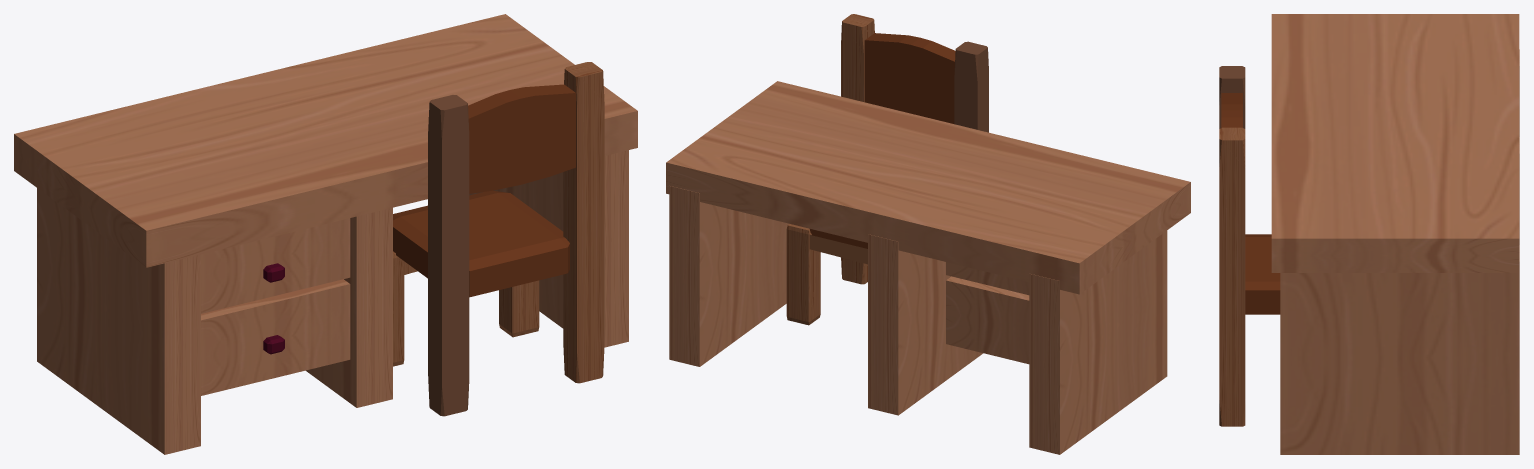
Rendered from desk-chair.gltf.
3 renders of one model, left to right at view 1: azimuth 30°, elevation 25°; view 2: azimuth 150°, elevation 25°; view 3: azimuth 270°, elevation 25°, orthographic. The views are drawn at different scales.
Visible parts, largest first — view 1: Cube.008, Cube.009, Cube.014, Cube.013, Cube.015, Cube.019, Cube.018, Cube.010, Cube.012, Cube.011, Cube.017; view 2: Cube.008, Cube.009, Cube.011, Cube.010, Cube.018, Cube.013, Cube.017, Cube.014, Cube.015, Cube.012; view 3: Cube.008, Cube.011, Cube.015, Cube.019, Cube.014, Cube.018.
Boxes of the visible parts, x1,y1,x2,y2 form: Cube.008: (14,14,637,267); Cube.009: (37,188,200,454); Cube.014: (428,95,469,416); Cube.013: (201,279,350,395); Cube.015: (563,62,604,383); Cube.019: (393,190,569,297); Cube.018: (468,84,575,193); Cube.010: (306,207,392,407); Cube.012: (201,218,350,313); Cube.011: (469,150,628,347); Cube.017: (393,251,539,366); Cube.008: (666,81,1190,294); Cube.009: (1029,230,1167,454); Cube.011: (669,186,789,366); Cube.010: (868,234,983,415); Cube.018: (864,33,955,123); Cube.013: (946,276,1029,364); Cube.017: (786,224,867,325); Cube.014: (954,41,988,132); Cube.015: (841,14,874,284); Cube.012: (946,262,1029,295); Cube.008: (1271,14,1519,272); Cube.011: (1280,245,1519,454); Cube.015: (1219,127,1245,426); Cube.019: (1245,234,1280,314); Cube.014: (1219,66,1245,128); Cube.018: (1221,93,1242,127).
Size of the model in its own units: 0.8823 by 0.5287 by 0.4988.
5 materials, 2 textured.
